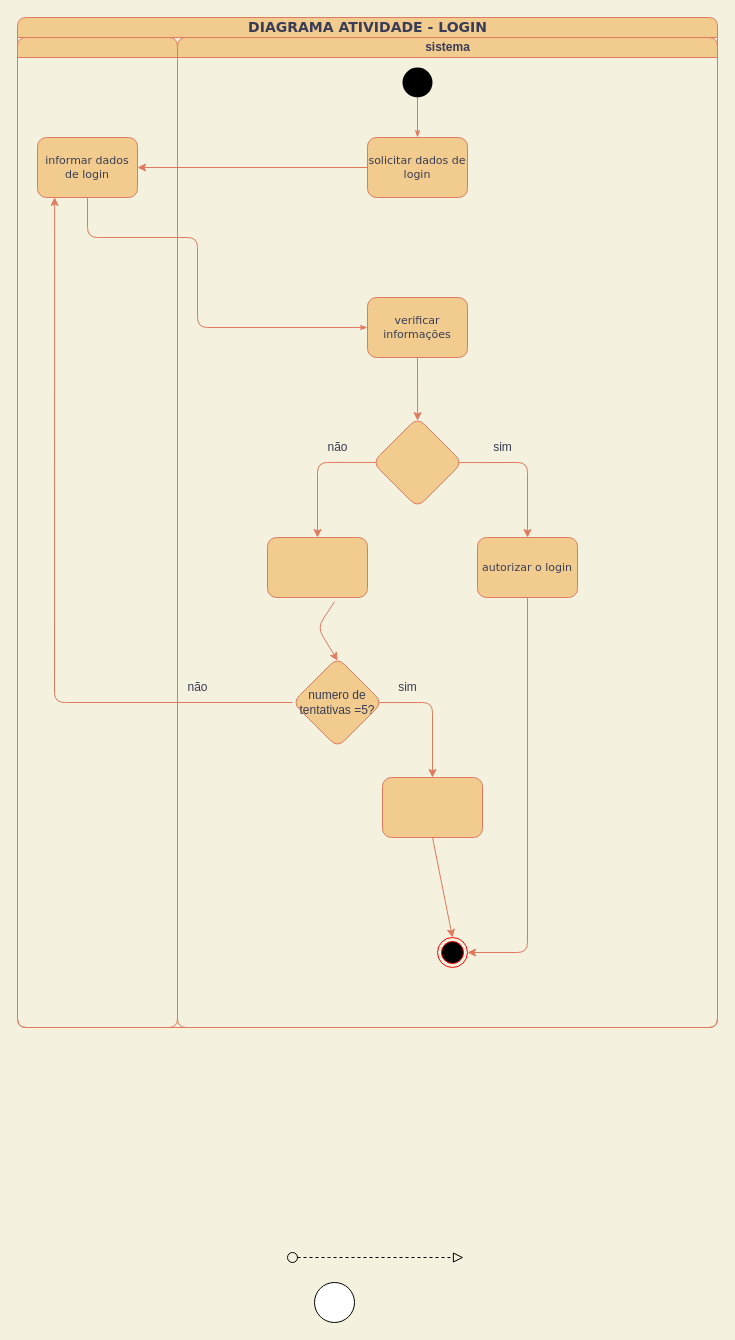
Some shapes in this 735 by 1340 pixel diagram are drawn without their labels. The box of each missing label's shape, as (x1, y1, x2, y2) in pixels:
cliente: (16, 36, 178, 1028)
login ok?: (372, 416, 462, 508)
verificar tentativas: (266, 536, 368, 598)
